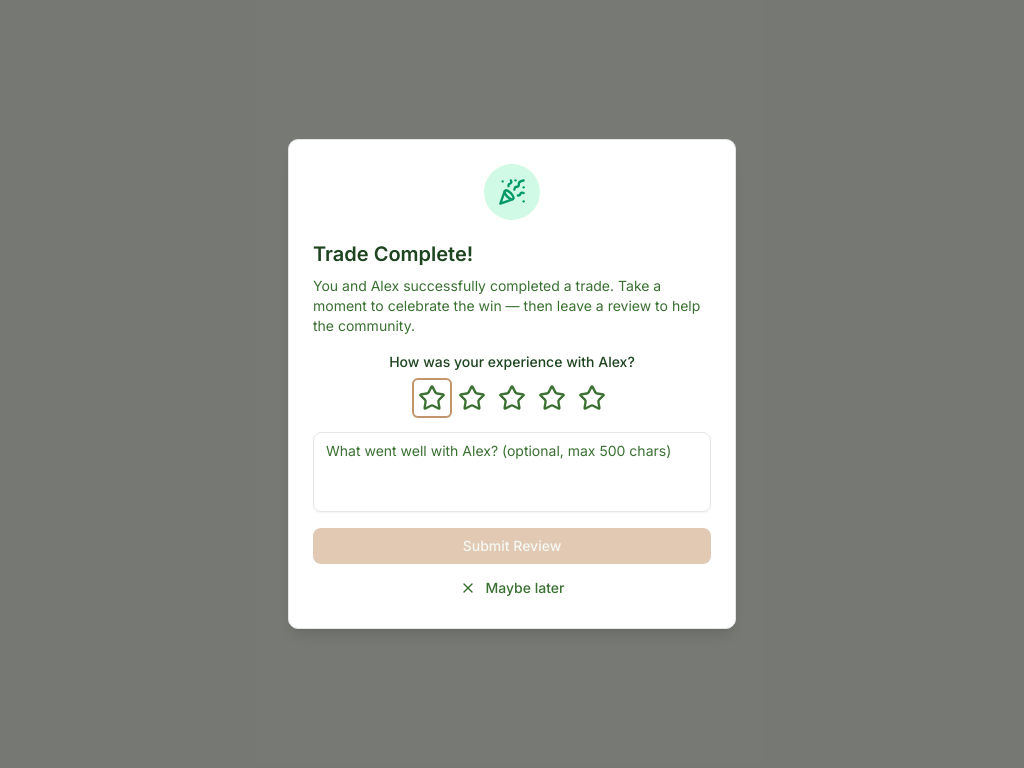
it: TradeCompletionCelebration › enables submit after selecting stars
The image size is (1024, 768).
Click the button named "Rate 4 stars": (552, 398) [534,380,570,416]
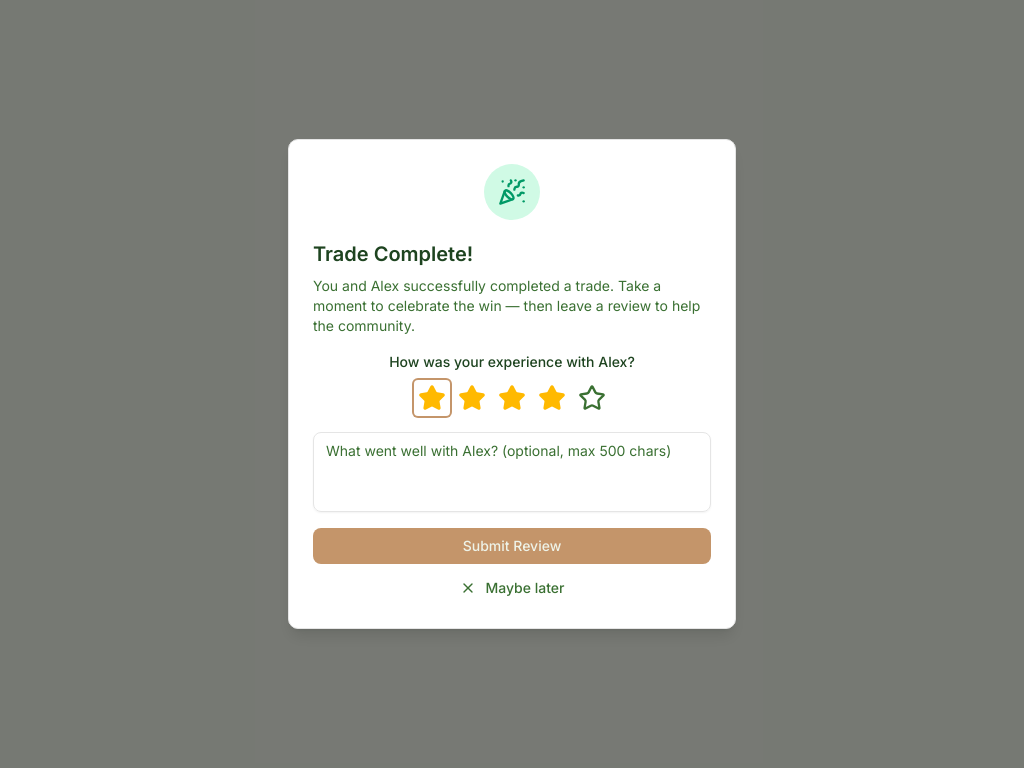
Expected: the button "Submit Review" is enabled, [313,528,711,564]
